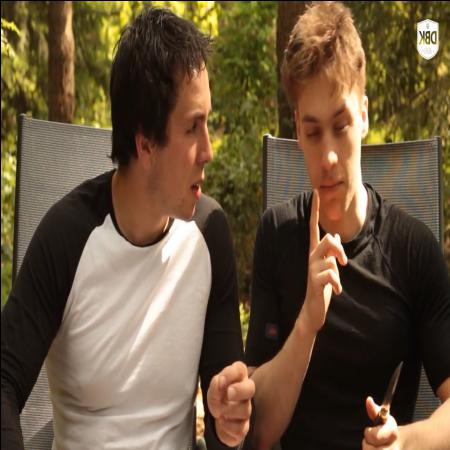long weapon: (360, 344, 412, 450)
